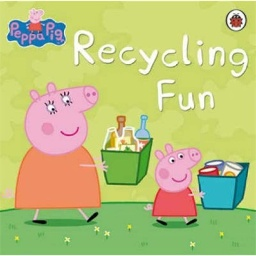Peppa: (142, 141, 208, 229)
